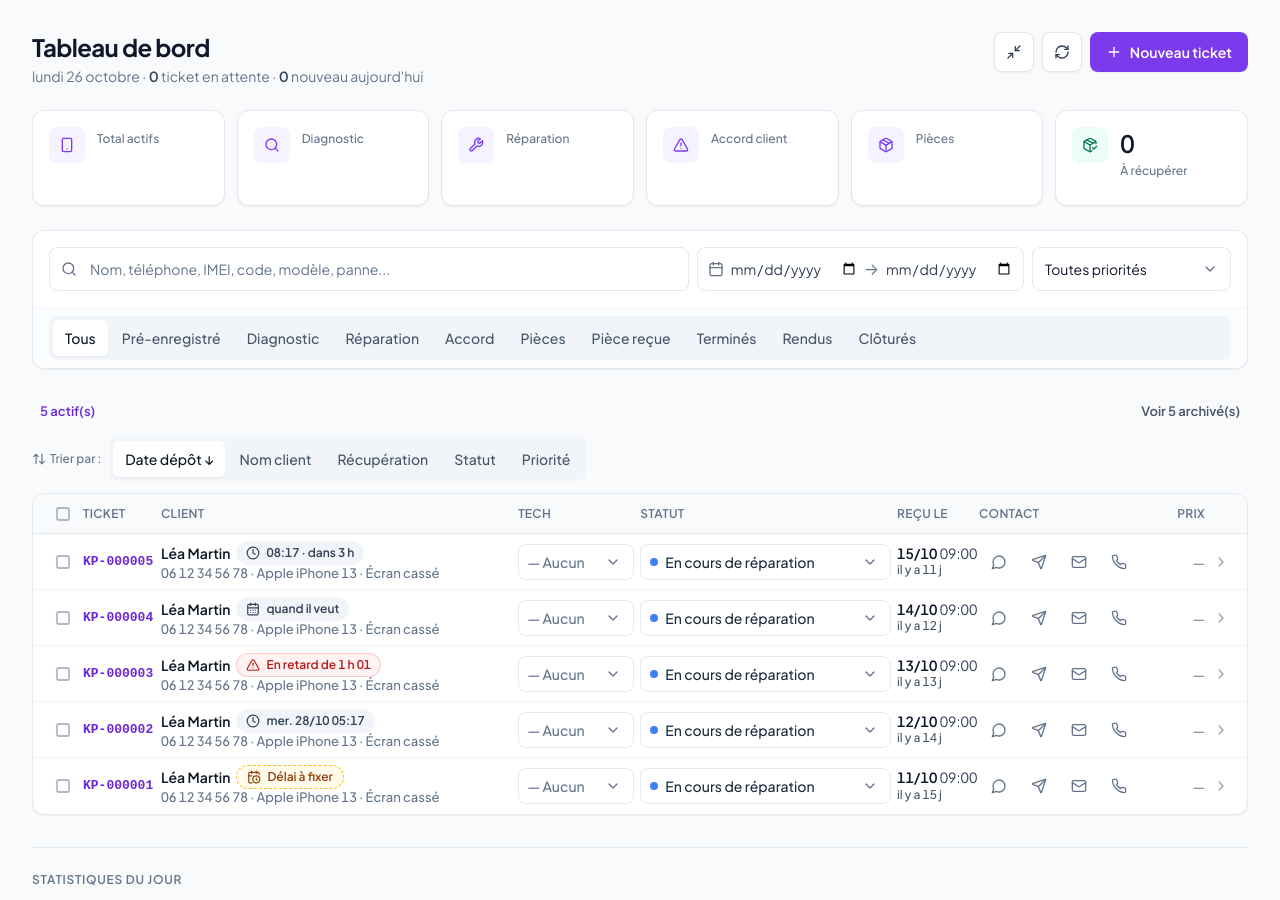
it: DashboardPage : tri « Récupération » › premier clic : le plus en retard d’abord, « Délai à fixer » en dernier ; second clic : inverse, vides toujours en dernier
Check: the link with aria-label "Ouvrir le ticket KP-000001" is shown, box [83,778,153,793]
Click the button "Récupération".
click(383, 459)  # box [325,441,440,477]
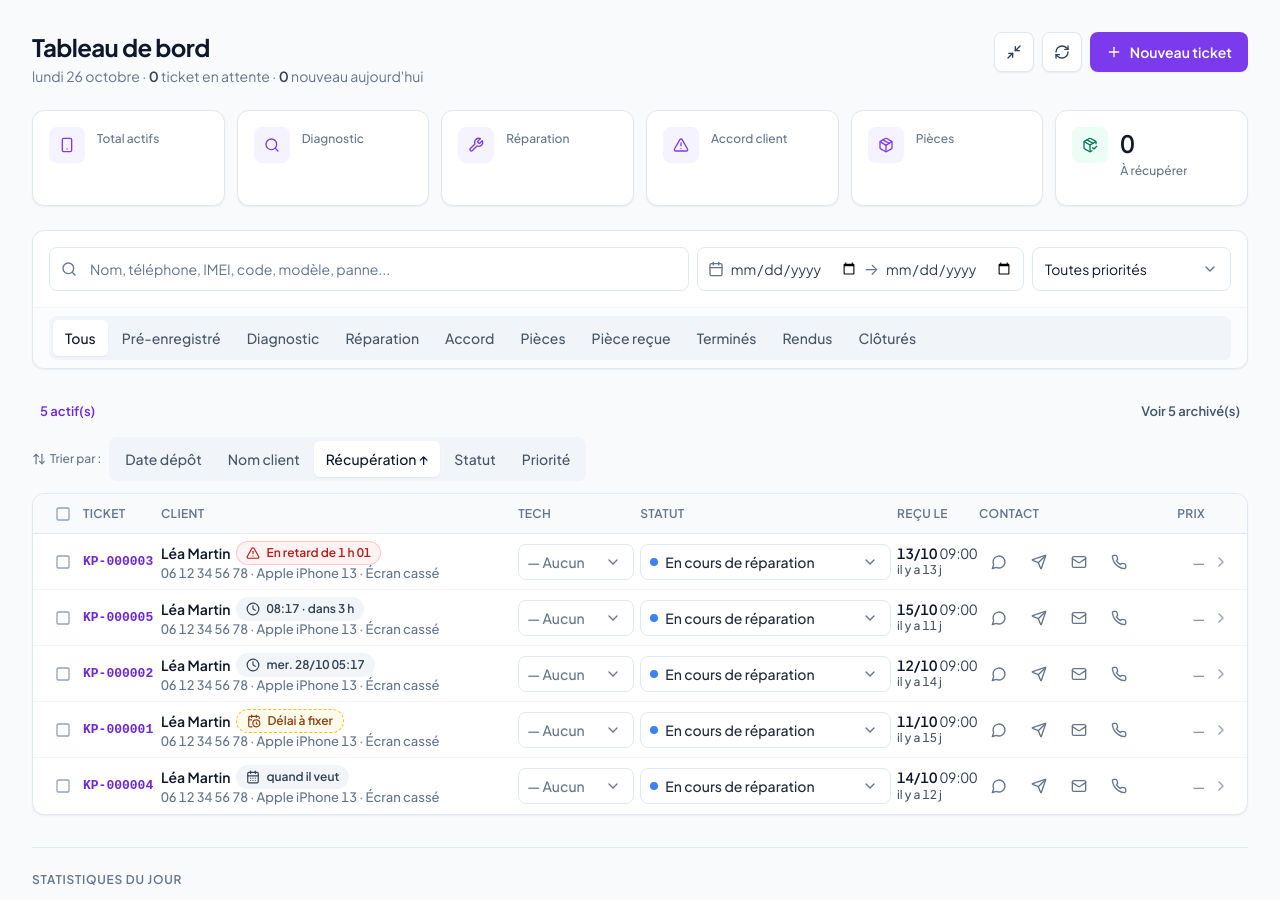
Check: the button "Récupération ↑" is shown
Click the button "Récupération ↑".
click(377, 459)  # box [314,441,440,477]
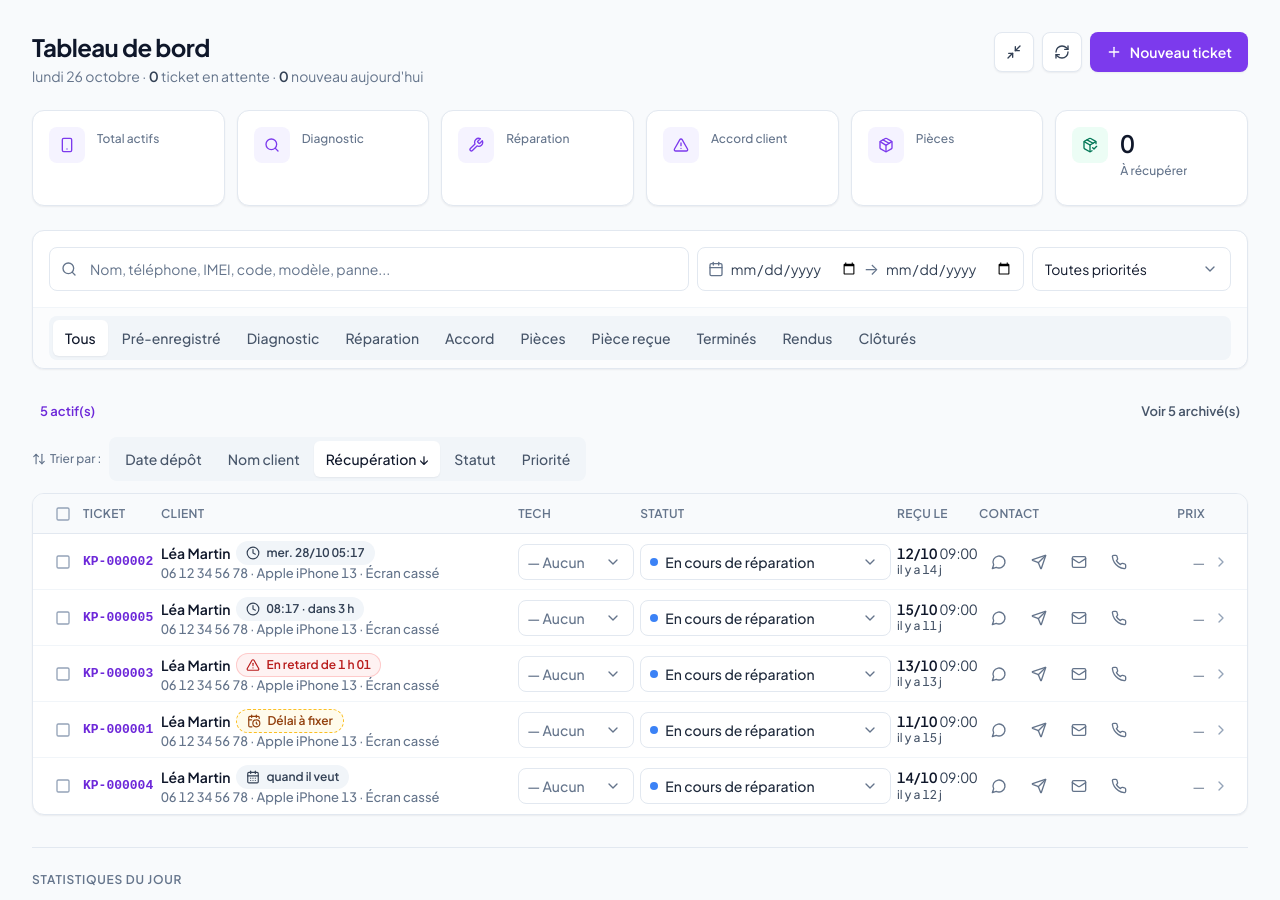
Check: the button "Récupération ↓" is shown, box [314,441,440,477]
